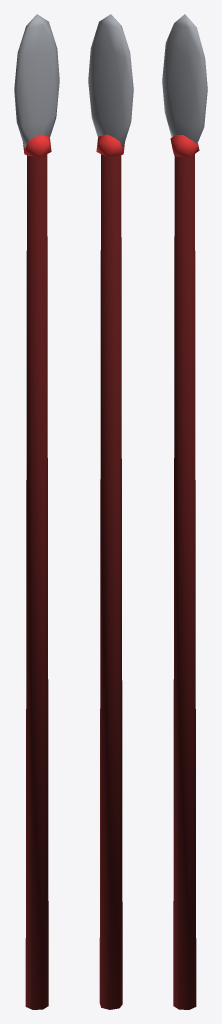
File: unholy_trident.glb
3 views of the same model, side by side, from view 1: azimuth 30°, elevation 25°; view 2: azimuth 150°, elevation 25°; view 3: azimuth 330°, elevation 25° (orthographic).
Visible parts, largest first — view 1: unholy_trident_v0; view 2: unholy_trident_v0; view 3: unholy_trident_v0.
Part boxes in pixels (left/top/right/bottom): unholy_trident_v0: left=14, top=14, right=59, bottom=1009; unholy_trident_v0: left=88, top=14, right=133, bottom=1009; unholy_trident_v0: left=162, top=14, right=207, bottom=1009.
Bounding box in the file's own units: 0.0761 × 1.67 × 0.0425.
